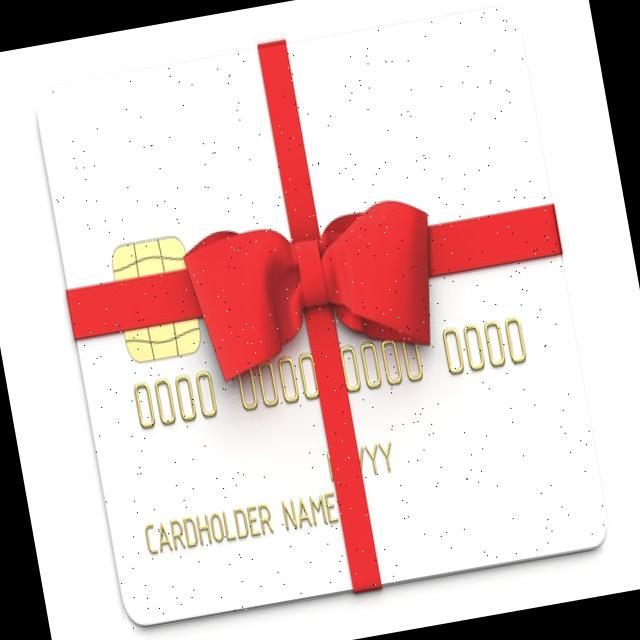payment_card: (4, 0, 635, 632)
